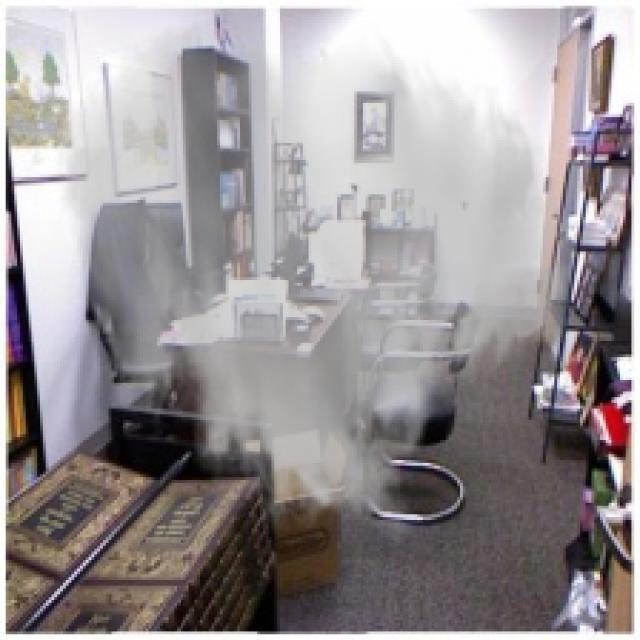Smoke: (51, 14, 578, 546)
